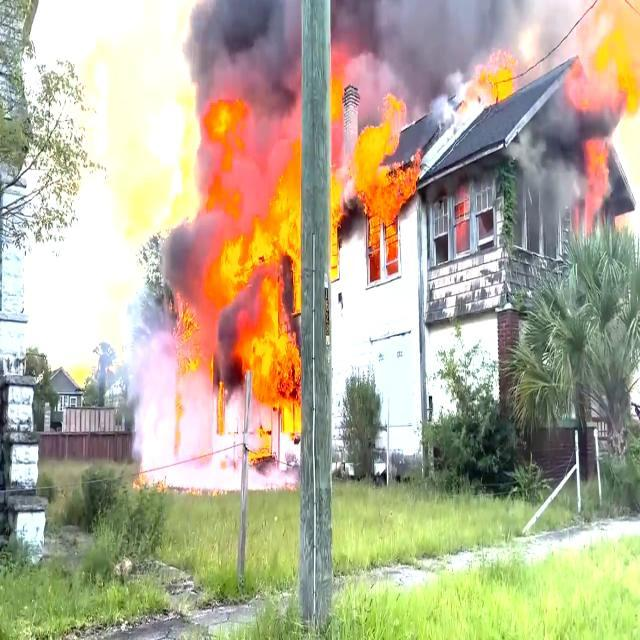Fire: (225, 156, 299, 408), (358, 123, 418, 257)
Smoke: (342, 0, 488, 84), (206, 10, 298, 132), (171, 216, 227, 365)
